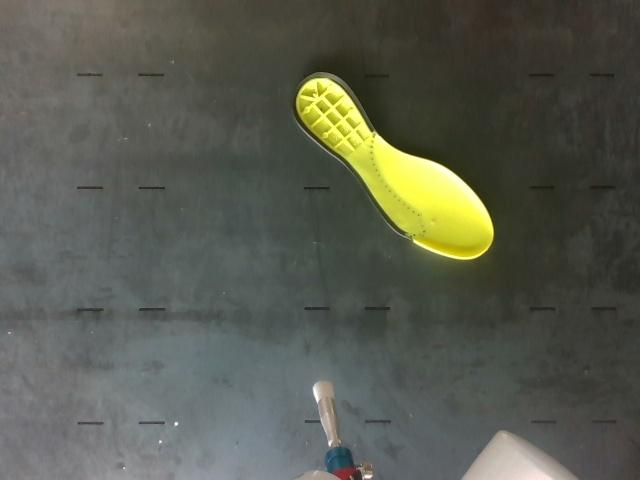shoes: (295, 74, 493, 259)
